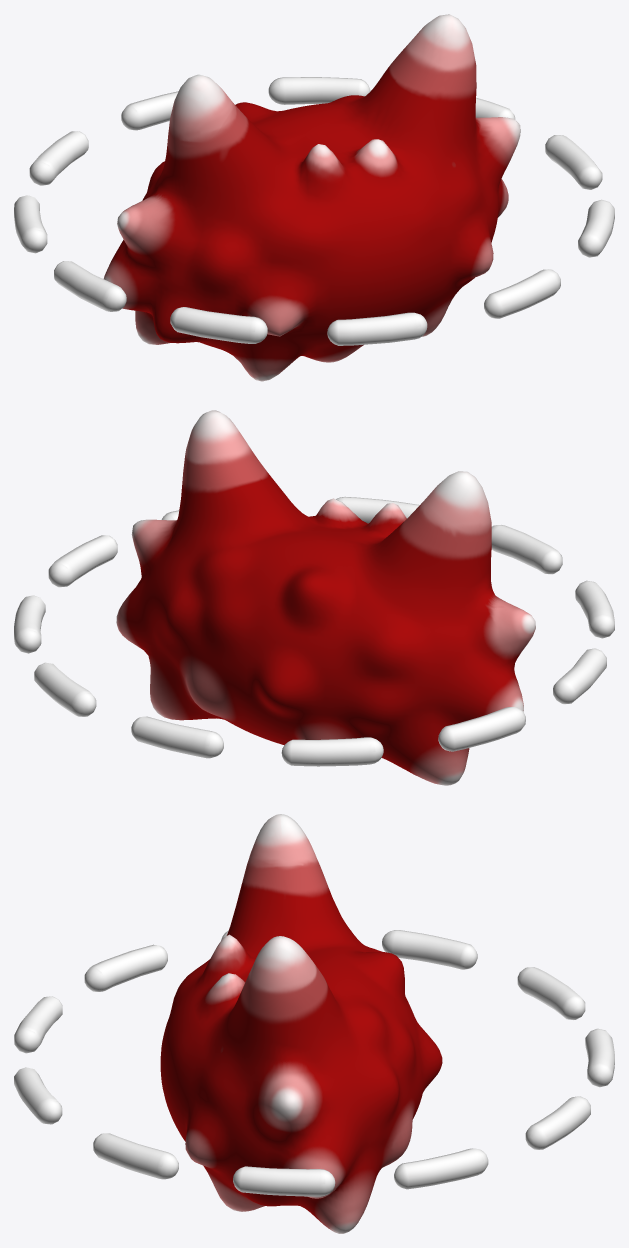
The model's file is planetA.gltf.
3 views of the same model, one above another, from view 1: azimuth 30°, elevation 25°; view 2: azimuth 150°, elevation 25°; view 3: azimuth 270°, elevation 25° (orthographic).
Visible parts, largest first — view 1: _Group12113; view 2: _Group12113; view 3: _Group12113.
Boxes of the visible parts, x1=… form: _Group12113: x1=14, y1=14, x2=614, y2=381; _Group12113: x1=14, y1=410, x2=614, y2=785; _Group12113: x1=14, y1=814, x2=614, y2=1233.
Bounding box in the file's own units: 4.35 × 2.4 × 4.32.
Materials: 1 (1 with a texture image).
